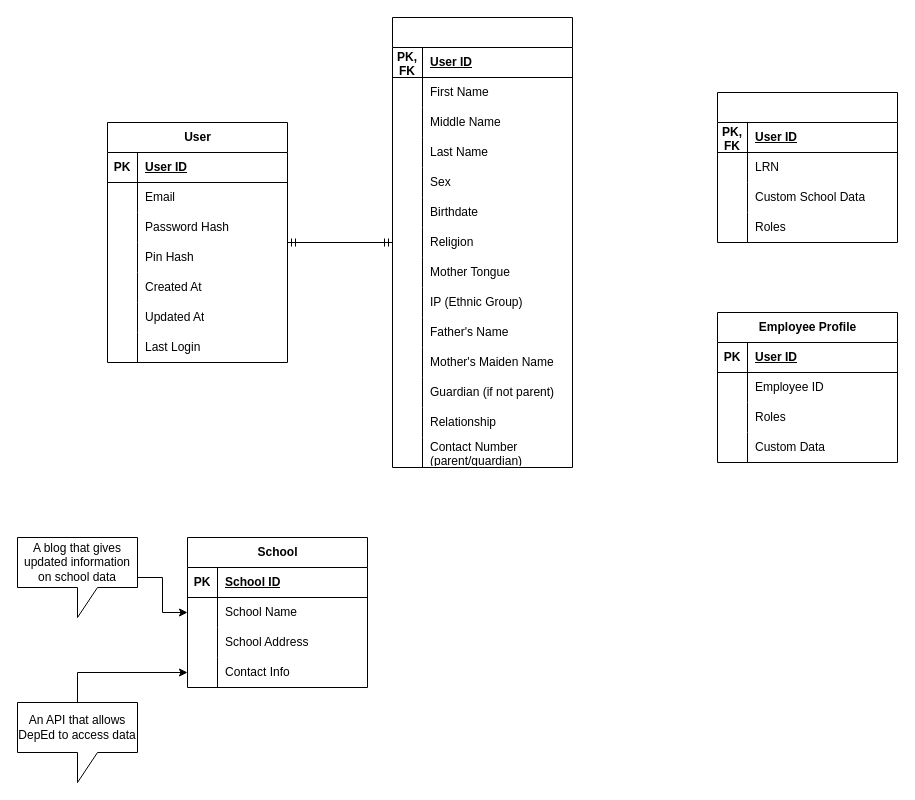
The diagram is 915 pixels wide and 800 high, and some of its shapes have lost their labels. The box of each missing label's shape, as (x1, y1, x2, y2) in pixels:
Student Profile: (716, 92, 898, 242)
User Profile: (392, 16, 572, 468)
